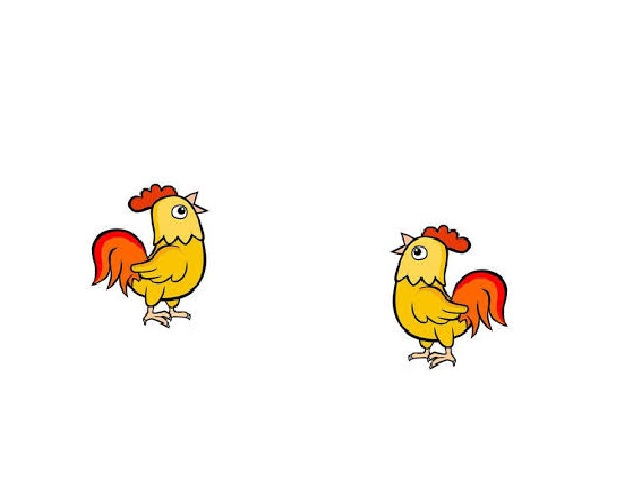crown: (122, 181, 177, 212), (421, 223, 473, 254)
eyes: (170, 201, 187, 222), (411, 245, 427, 261)
feet: (401, 346, 462, 370), (142, 309, 193, 331)
tail: (82, 229, 147, 299), (452, 269, 508, 338)
